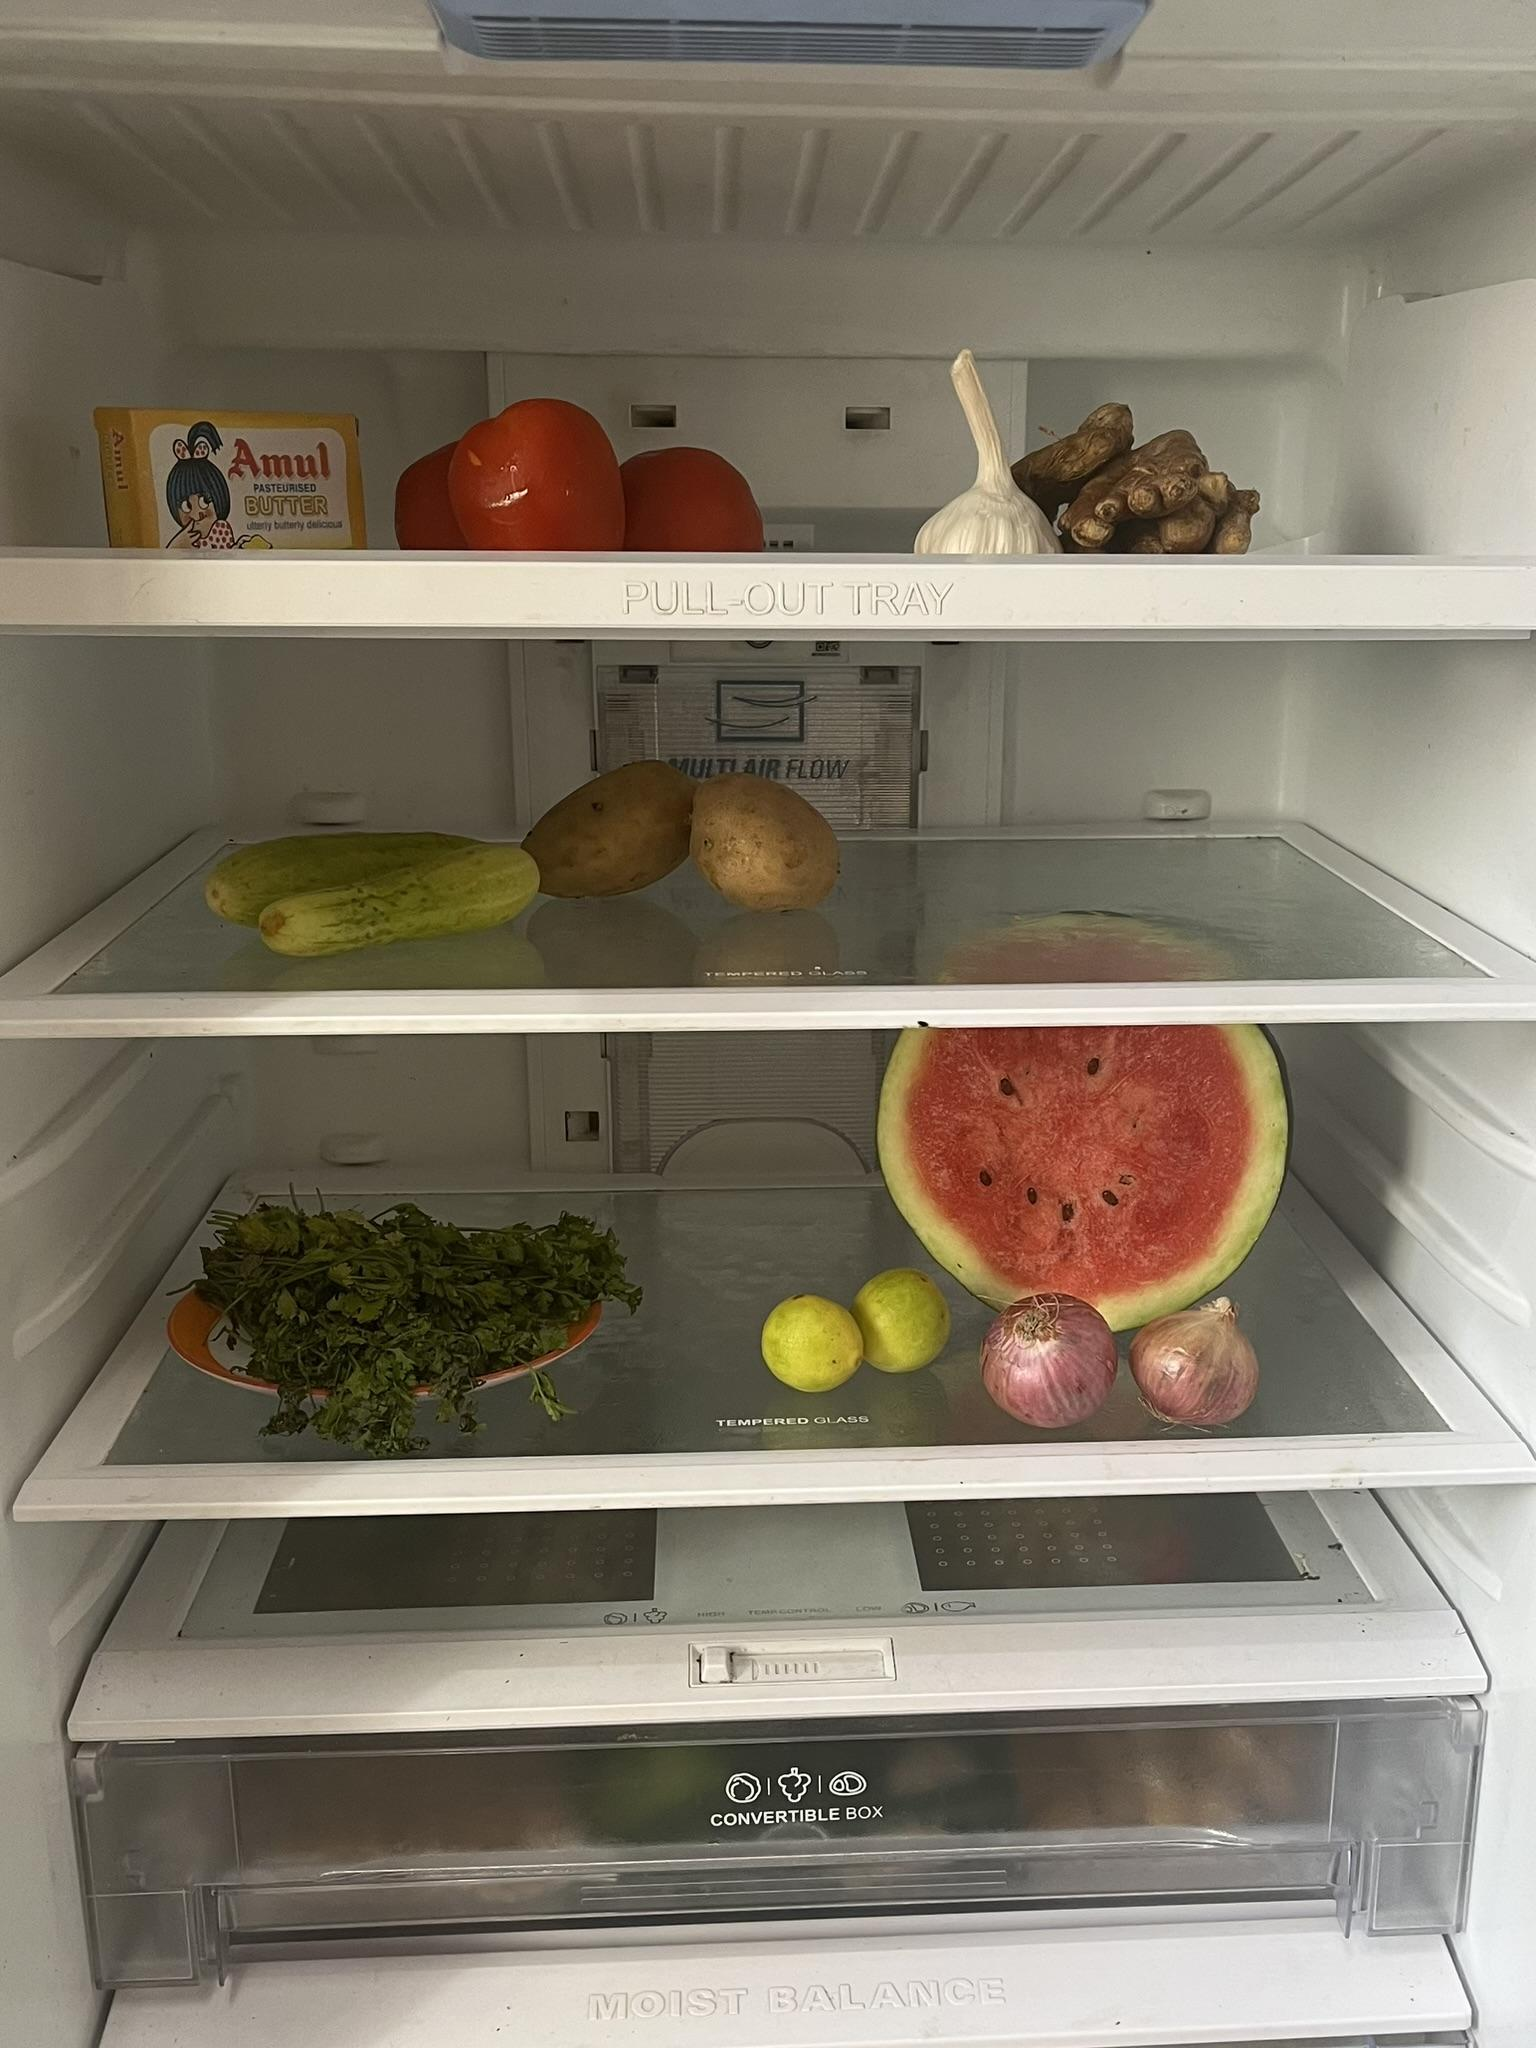butter: (97, 403, 369, 547)
coriander: (207, 1197, 623, 1437)
cucumber: (207, 830, 541, 940)
garlic: (910, 350, 1060, 556)
ginger: (1020, 403, 1260, 563)
lemon: (763, 1259, 947, 1387)
onion: (973, 1290, 1257, 1427)
potato: (529, 753, 841, 913)
tomato: (400, 387, 787, 556)
watermelon: (883, 930, 1297, 1327)
